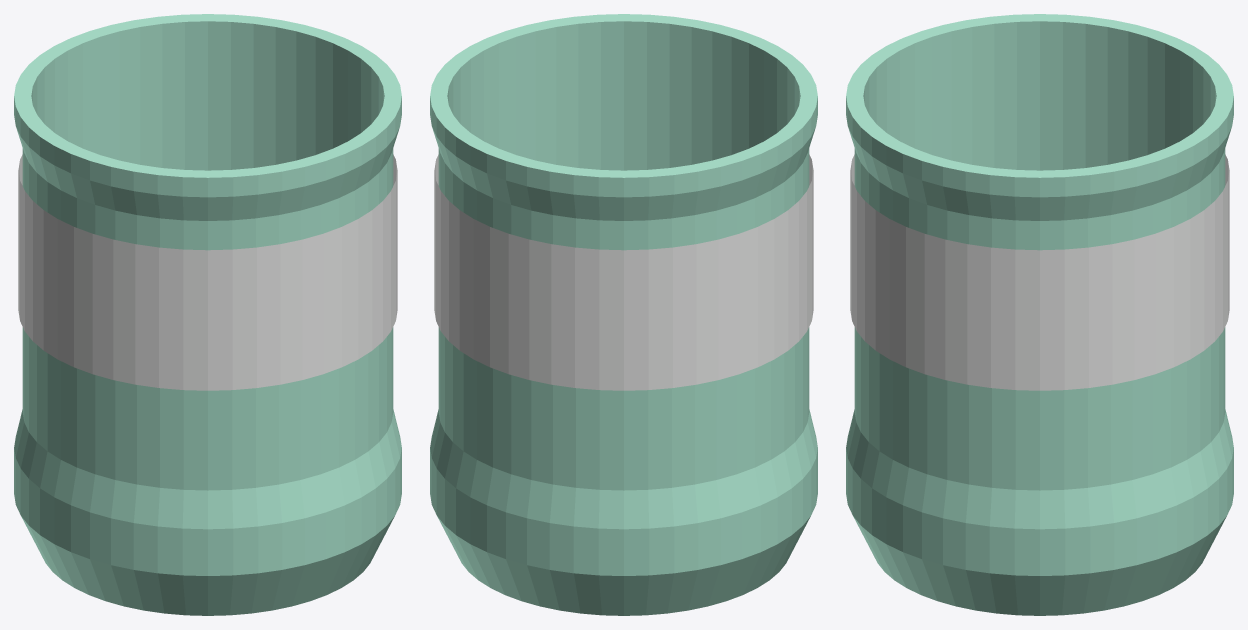
Rendered from botella_base.glb.
3 renders of one model, left to right at view 1: azimuth 30°, elevation 25°; view 2: azimuth 150°, elevation 25°; view 3: azimuth 270°, elevation 25°, orthographic.
Size of the model in its own units: 0.09 by 0.115 by 0.09.
